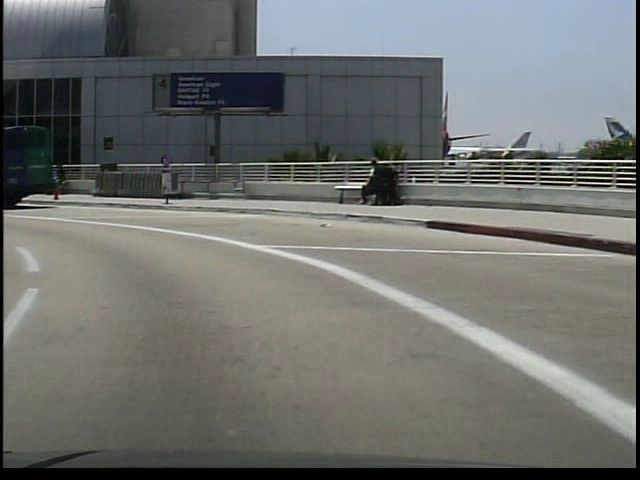person: (50, 162, 69, 201)
